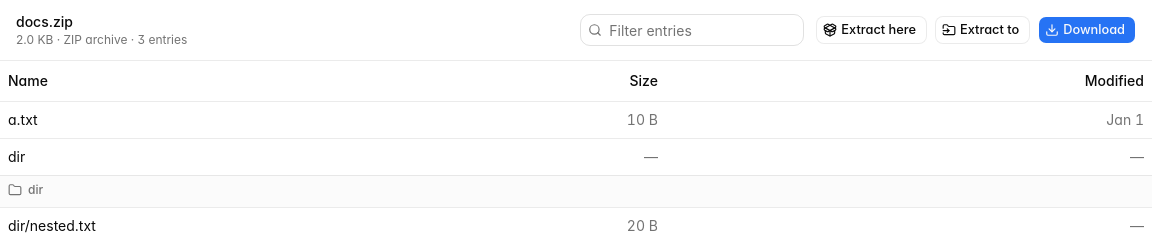
Scenario: filters entries by the search box
Type "nested" into the field with placeholder "Filter entries" at (692, 30), box left=580, top=14, right=804, bottom=46
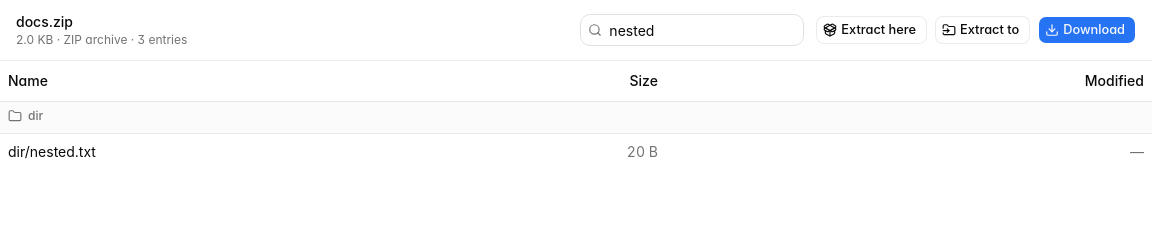
Expected: the text "dir/nested.txt" is shown, left=8, top=142, right=96, bottom=160
Result: the text "a.txt" is gone
